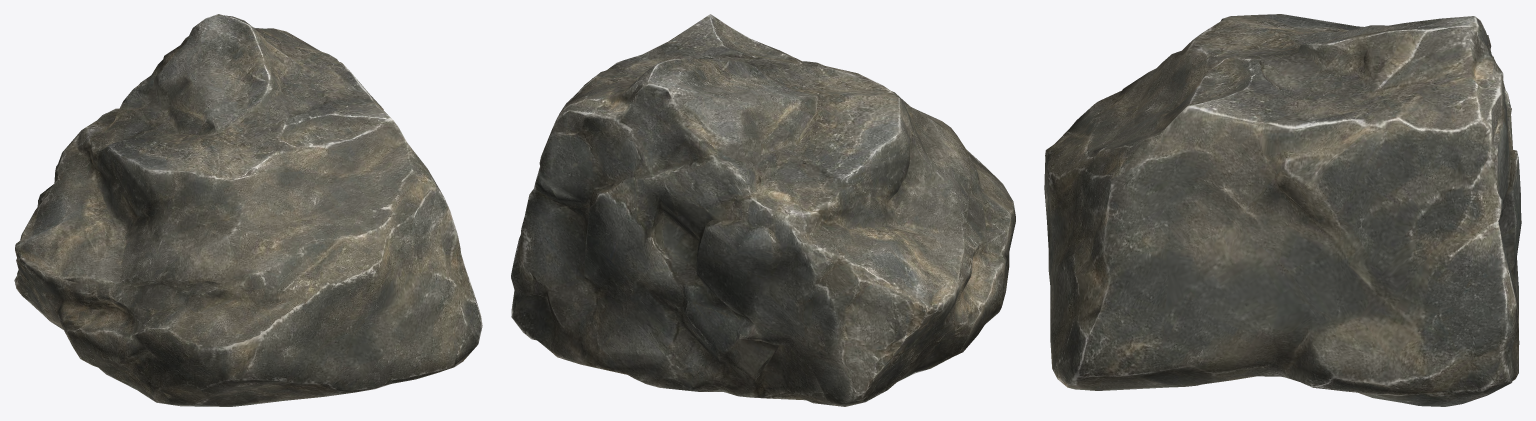
The model's file is rock_2.glb.
3 renders of one model, left to right at view 1: azimuth 30°, elevation 25°; view 2: azimuth 150°, elevation 25°; view 3: azimuth 270°, elevation 25°, orthographic. The views are drawn at different scales.
Size of the model in its own units: 1.91 by 1.33 by 1.74.
Materials: 1 (1 with a texture image).
